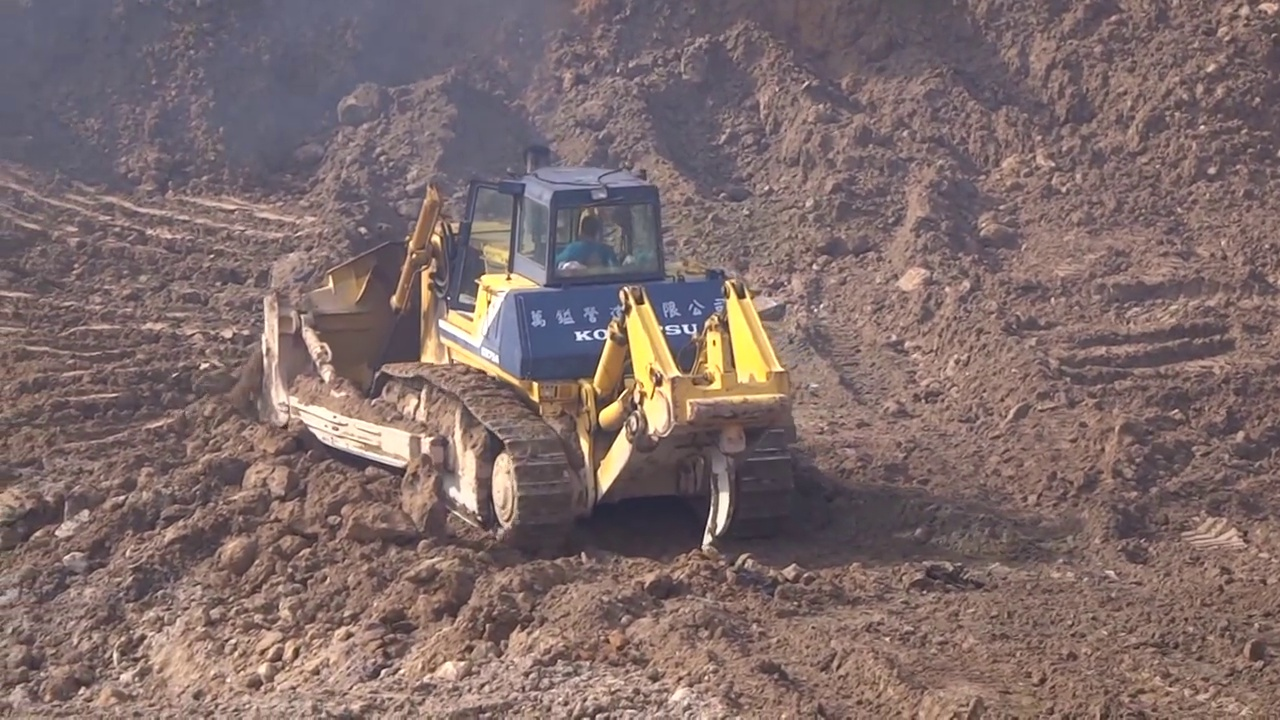bulldozer: (261, 161, 800, 545)
